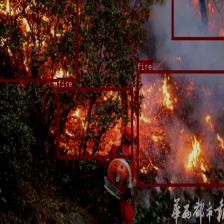fire: (136, 70, 224, 185), (0, 0, 78, 81), (57, 88, 132, 157), (171, 0, 224, 39)
